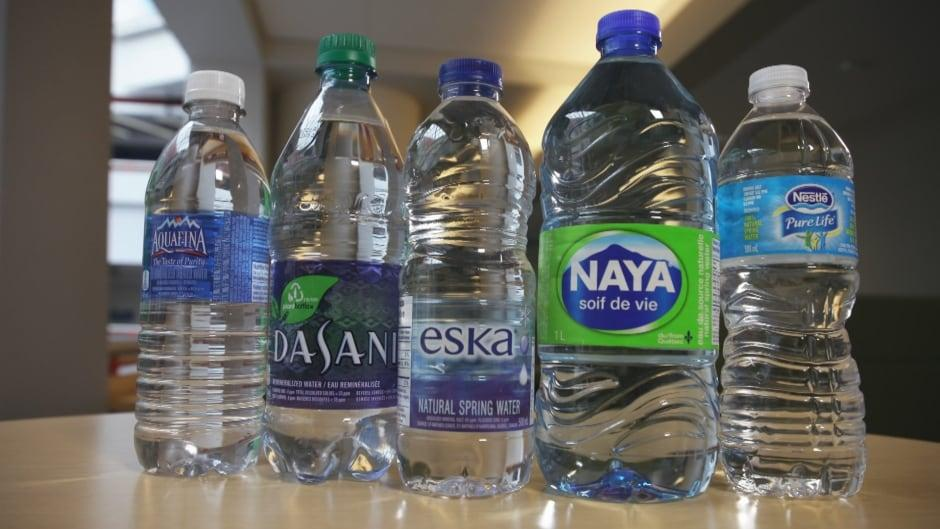plastic: (532, 10, 722, 504), (715, 65, 866, 501), (398, 58, 539, 502), (265, 33, 402, 484), (134, 71, 273, 478)
